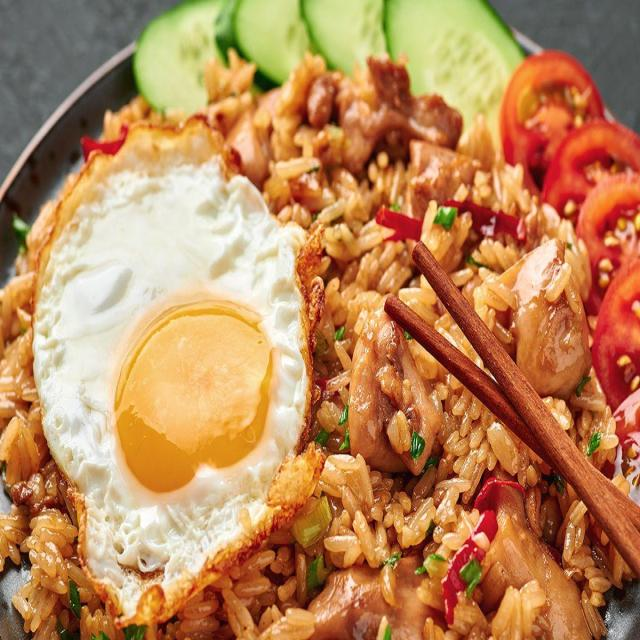Nasi Goreng: (28, 120, 591, 626)
